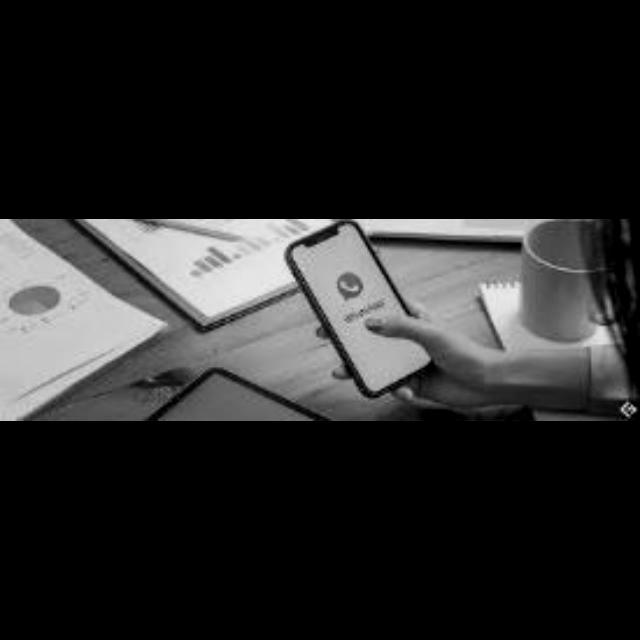fake: (274, 214, 480, 404)
